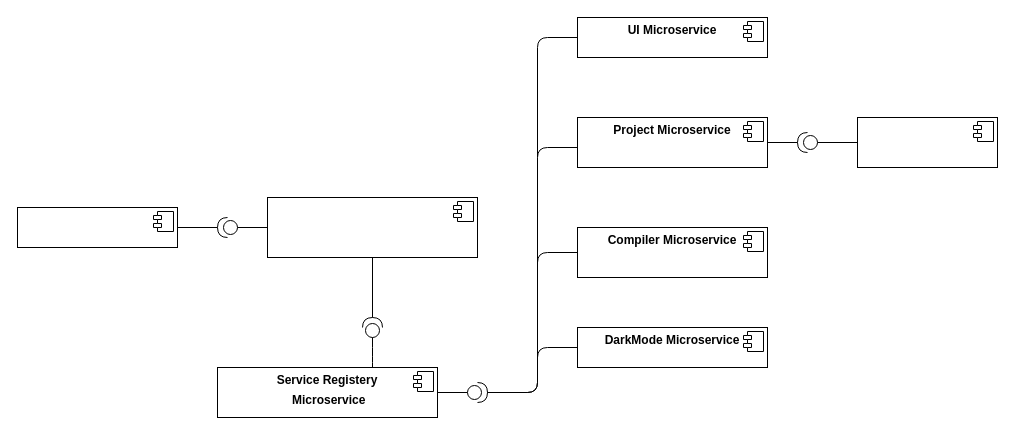
This 1015x435 diagram has some shape labels left out. Here are the shapes that lost their labels. From the top down, the centre of each, then its label:
the point at 927,142: Database
the point at 97,227: IDE Application Client
the point at 372,227: API Gateway Microservice
